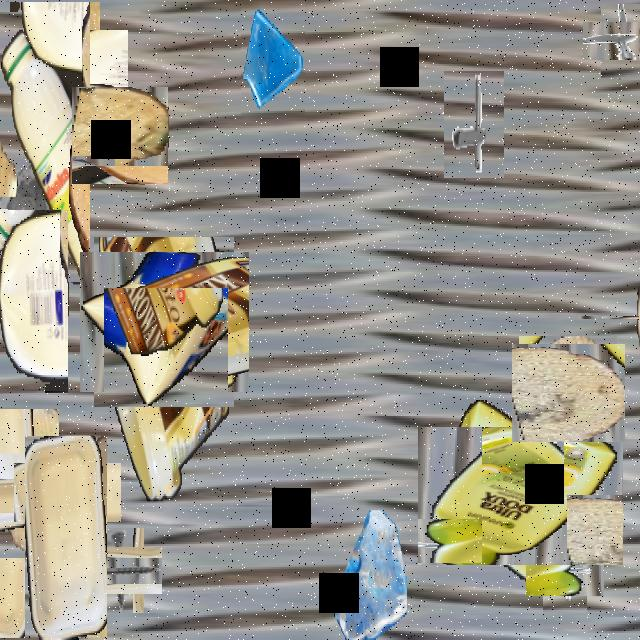glass: (14, 16, 114, 116), (334, 510, 406, 638), (241, 1, 305, 116)
metal: (26, 451, 110, 534), (444, 71, 504, 178), (87, 537, 153, 604), (451, 453, 497, 535), (534, 544, 596, 604), (592, 12, 640, 69)
plastic: (434, 410, 606, 582), (104, 288, 228, 501), (0, 2, 90, 282), (86, 244, 242, 400), (25, 436, 107, 638), (0, 210, 68, 394)
wood: (0, 439, 61, 638), (515, 340, 621, 446), (72, 86, 168, 184), (0, 431, 81, 535), (0, 2, 20, 201), (603, 283, 640, 352), (0, 150, 8, 292)
